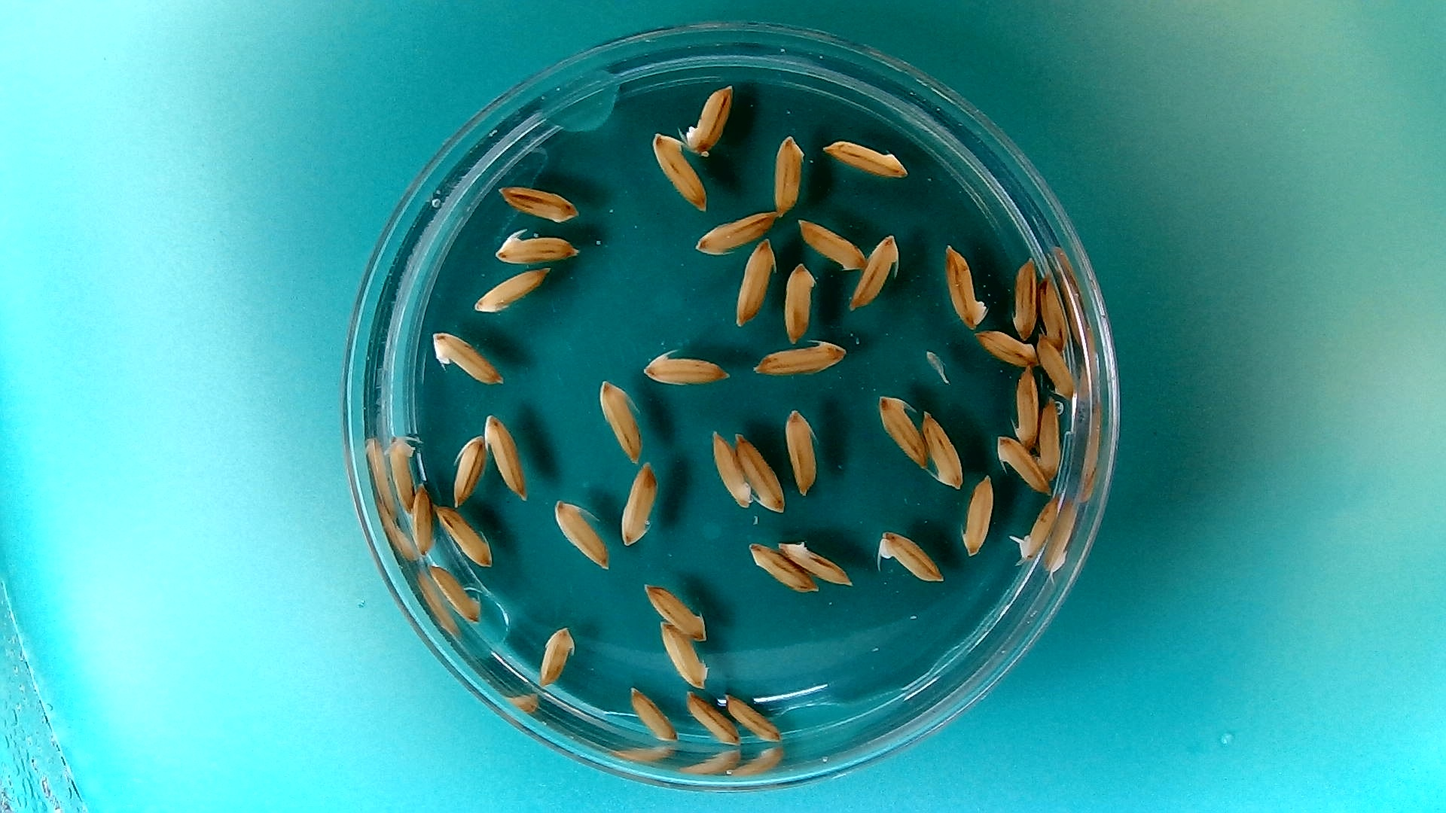no: (551, 494, 613, 574), (650, 129, 709, 212), (428, 327, 508, 387), (640, 340, 733, 391), (734, 427, 787, 514), (595, 376, 646, 465), (847, 230, 902, 311), (873, 391, 928, 471), (941, 240, 990, 329), (482, 410, 529, 502), (873, 527, 946, 585), (639, 578, 708, 639), (679, 81, 735, 156), (471, 264, 553, 315), (694, 206, 779, 255), (776, 535, 856, 587), (750, 336, 849, 378), (432, 501, 494, 568), (745, 538, 818, 594), (795, 215, 868, 271), (706, 425, 751, 515), (820, 135, 909, 180), (732, 235, 776, 326), (919, 406, 966, 491), (657, 619, 711, 691), (681, 687, 740, 747), (782, 404, 820, 497), (495, 181, 580, 222), (428, 561, 484, 623), (619, 458, 658, 547), (996, 432, 1050, 495), (722, 690, 783, 744), (958, 470, 995, 558), (626, 684, 679, 744), (770, 129, 806, 216), (782, 258, 818, 344), (449, 431, 488, 509), (972, 327, 1040, 368), (536, 621, 577, 689), (1036, 330, 1077, 398), (386, 434, 420, 510), (1011, 253, 1040, 340), (1012, 363, 1041, 449), (1035, 397, 1064, 480), (1038, 271, 1067, 349), (407, 480, 435, 557)
yes: (1008, 492, 1062, 562), (490, 227, 582, 266)
